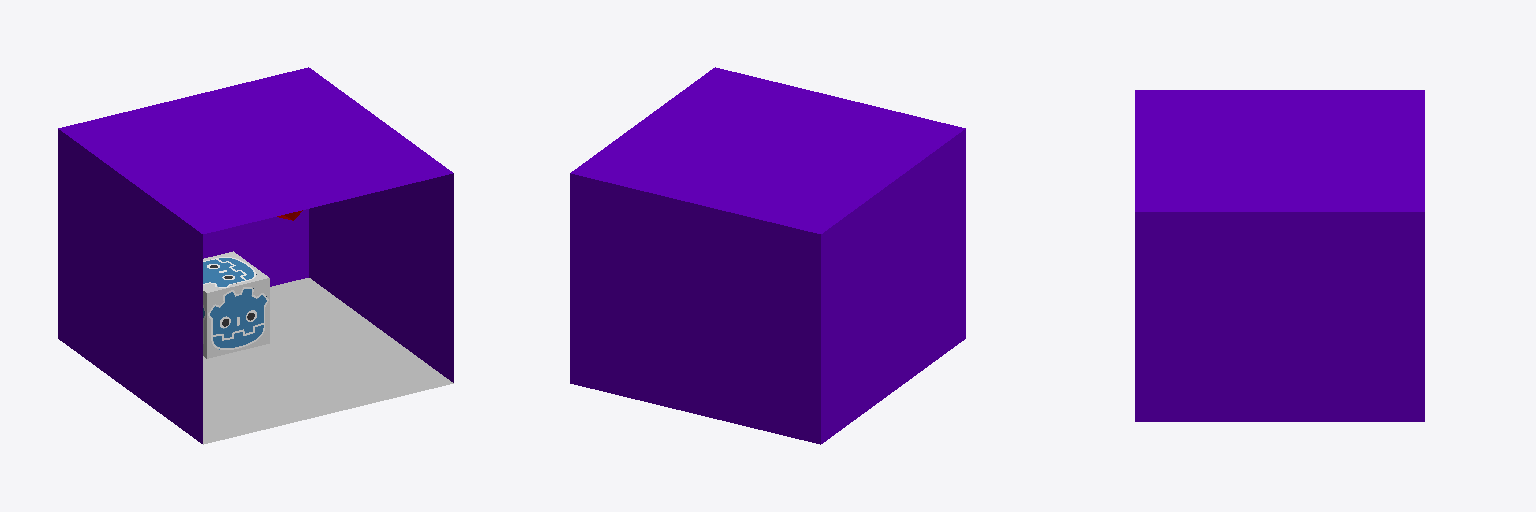
The picture shows the model from 3 angles: view 1: azimuth 30°, elevation 25°; view 2: azimuth 150°, elevation 25°; view 3: azimuth 270°, elevation 25°; orthographic projection.
Parts seen in each view (by area): view 1: Box, Cube; view 2: Box; view 3: Box.
Boxes of the visible parts, <box> form: Box: <box>58,67,453,444</box>; Cube: <box>203,251,269,358</box>; Box: <box>570,67,965,444</box>; Box: <box>1135,90,1424,421</box>.
Bounding box in the file's own units: 20 × 16 × 20.
Materials: 4 (1 with a texture image).